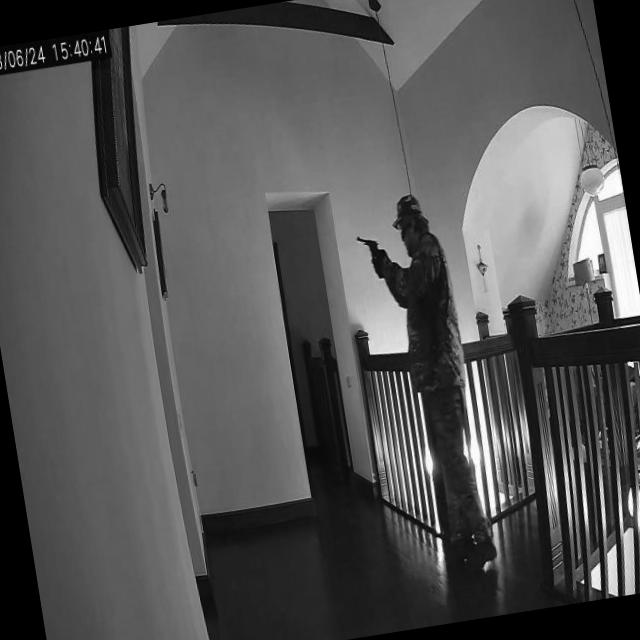gun: (354, 230, 384, 268)
person with a gun: (350, 188, 500, 586)
